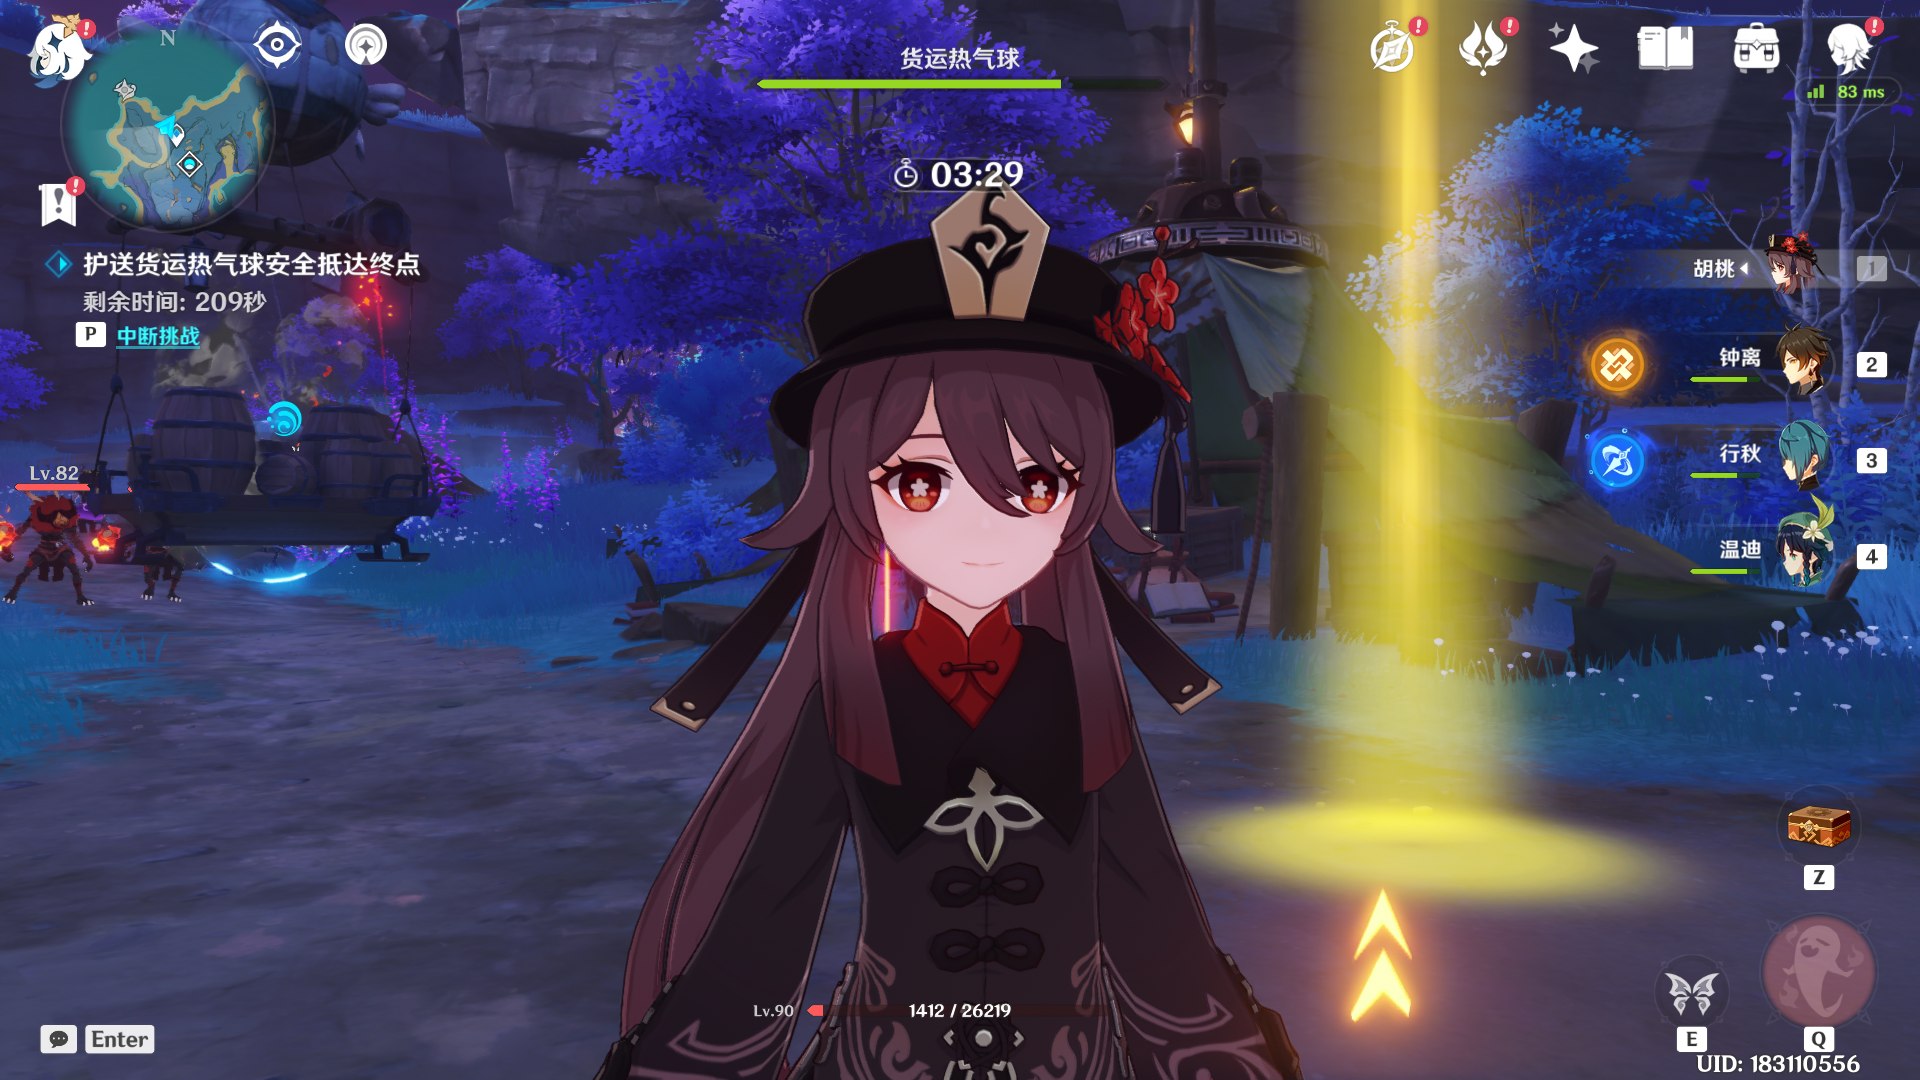character: (615, 166, 1365, 1080)
hili: (1, 469, 107, 636)
